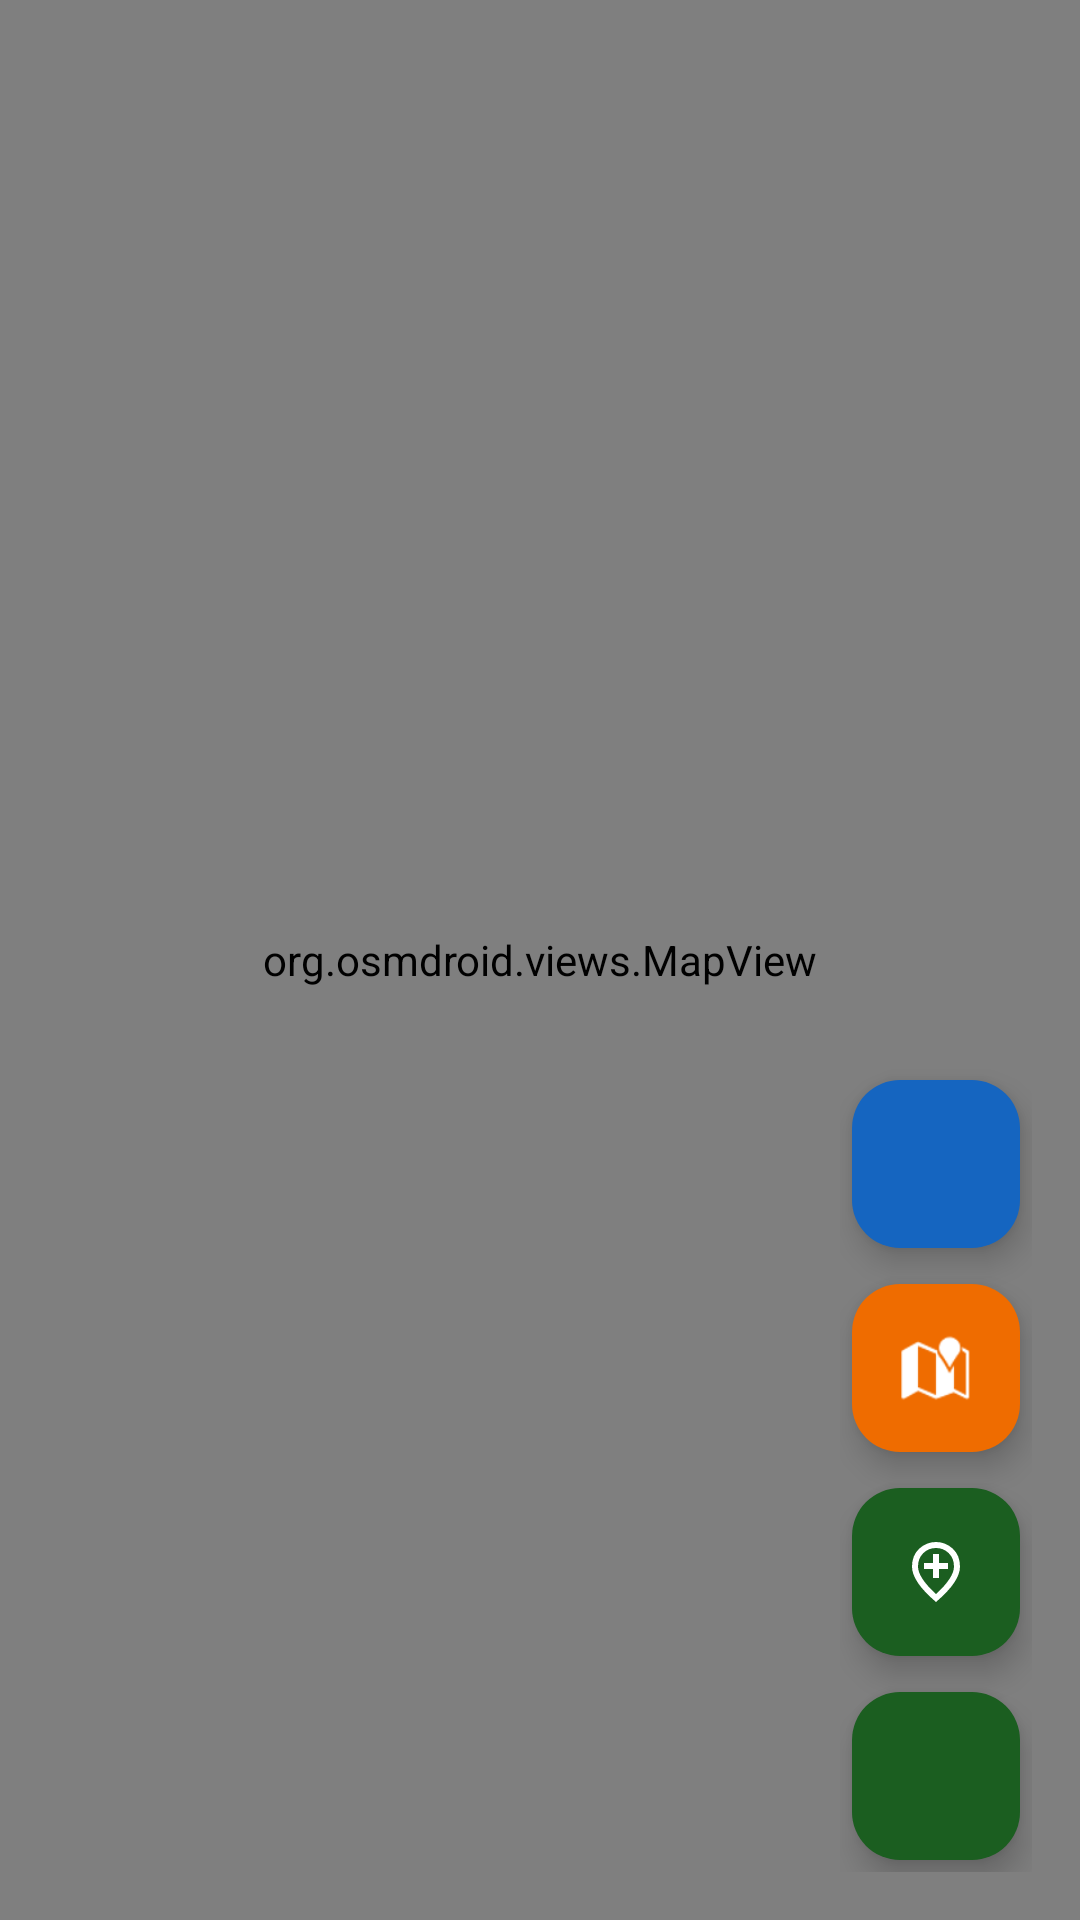

Icon bounding boxes for this 1080*1920 phone screenshot, format (x1=x1, y1=y1, x2=x2, y2=y2):
Drop pin at current location: (x1=852, y1=1488, x2=1020, y2=1656)
Jump to land manager trail area: (x1=852, y1=1284, x2=1020, y2=1452)
